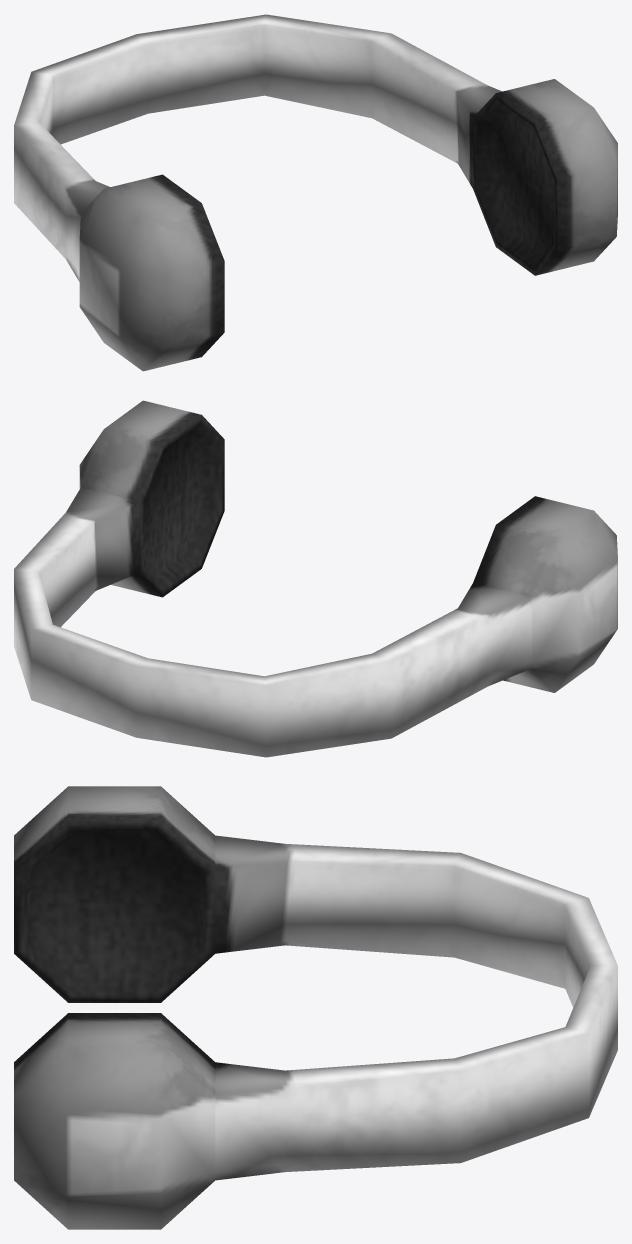
Rendered from Earphones1.fbx.
3 renders of one model, top to bottom at view 1: azimuth 30°, elevation 25°; view 2: azimuth 150°, elevation 25°; view 3: azimuth 270°, elevation 25°, orthographic. The views are drawn at different scales.
Parts seen in each view (by area): view 1: Earphones1; view 2: Earphones1; view 3: Earphones1.
Part boxes in pixels (x1=…): Earphones1: x1=14, y1=14, x2=617, y2=371; Earphones1: x1=14, y1=400, x2=617, y2=757; Earphones1: x1=14, y1=786, x2=617, y2=1229.
Size of the model in its own units: 0.2977 by 0.0878 by 0.2633.
Materials: 1 (1 with a texture image).
